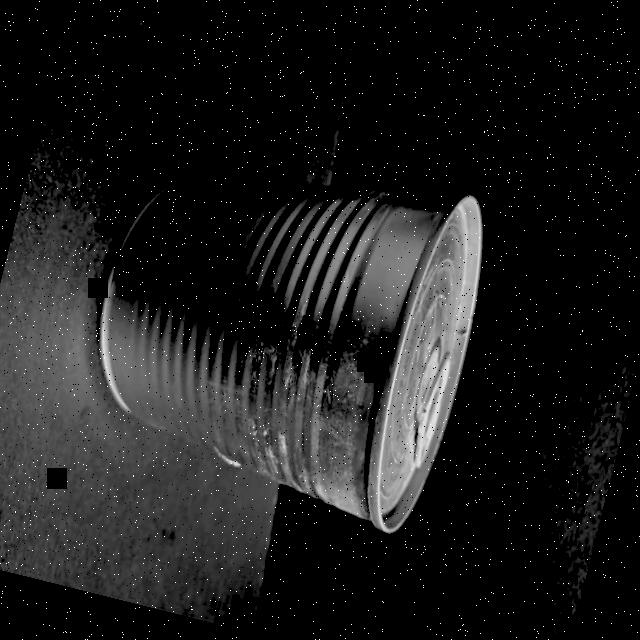can: (57, 112, 506, 546)
